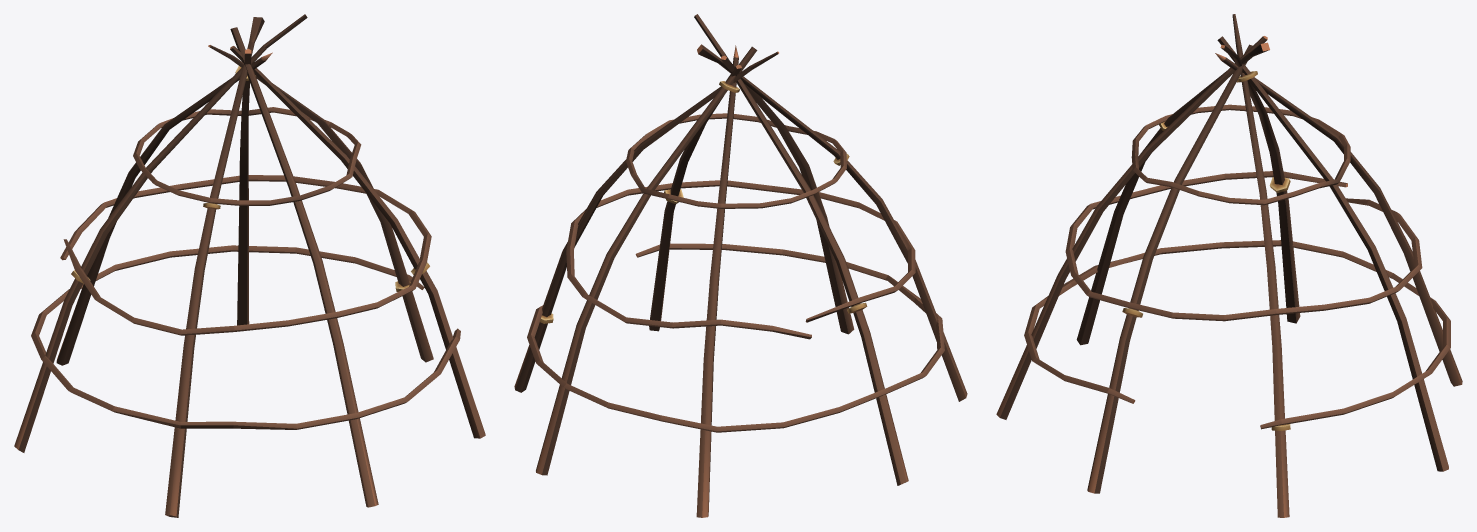
The model's file is hut_sperated.fbx.
3 views of the same model, side by side, from view 1: azimuth 30°, elevation 25°; view 2: azimuth 150°, elevation 25°; view 3: azimuth 270°, elevation 25° (orthographic). The views are drawn at different scales.
Visible parts, largest first — view 1: LowerBranch, MiddleBranch, Branch5, Branch6, Branch4, Branch7, Branch3, Branch1, UpperBranch, Branch2; view 2: LowerBranch, MiddleBranch, Branch4, Branch2, Branch3, Branch5, Branch1, UpperBranch, Branch6, Branch7, Joint; view 3: LowerBranch, MiddleBranch, Branch7, Branch2, Branch1, Branch6, Branch3, Branch4, Branch5, UpperBranch, Joint.
Part boxes in pixels (box(x1,y1,x2,y2)): LowerBranch: box(31, 245, 460, 429); MiddleBranch: box(60, 175, 431, 335); Branch5: box(165, 17, 264, 517); Branch6: box(230, 27, 378, 507); Branch4: box(14, 14, 307, 452); Branch7: box(230, 46, 485, 438); Branch3: box(56, 52, 272, 365); Branch1: box(208, 45, 433, 362); UpperBranch: box(133, 107, 361, 205); Branch2: box(237, 48, 251, 325); LowerBranch: box(527, 243, 944, 432); MiddleBranch: box(566, 180, 915, 339); Branch4: box(694, 14, 908, 485); Branch2: box(536, 46, 757, 475); Branch3: box(696, 45, 738, 517); Branch5: box(697, 44, 967, 401); Branch1: box(514, 51, 778, 392); UpperBranch: box(626, 113, 846, 208); Branch6: box(720, 55, 854, 334); Branch7: box(649, 65, 741, 331); Joint: box(540, 81, 867, 323); LowerBranch: box(1024, 240, 1450, 429); MiddleBranch: box(1065, 171, 1422, 321); Branch7: box(1087, 44, 1252, 493); Branch2: box(1217, 36, 1448, 471); Branch1: box(1232, 14, 1289, 517); Branch6: box(996, 36, 1267, 419); Branch3: box(1215, 53, 1462, 386); Branch4: box(1220, 44, 1300, 323); Branch5: box(1076, 42, 1269, 345); UpperBranch: box(1131, 104, 1350, 205); Joint: box(1122, 71, 1290, 430).
Size of the model in its own units: 564 by 532 by 558.
